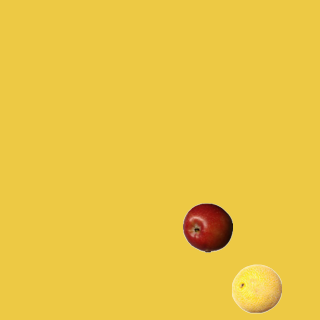Apple Braeburn: (182, 202, 232, 252)
Cantaloupe 1: (231, 263, 281, 313)
